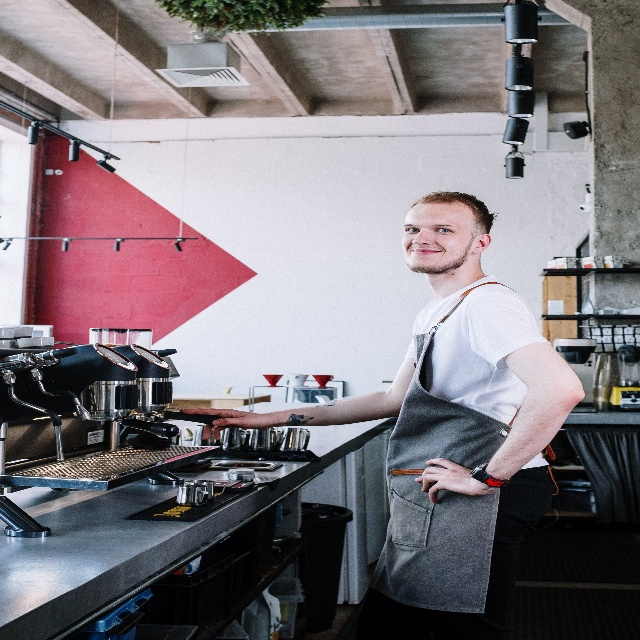Sin_guantes: (414, 457, 487, 505), (178, 406, 267, 443)
